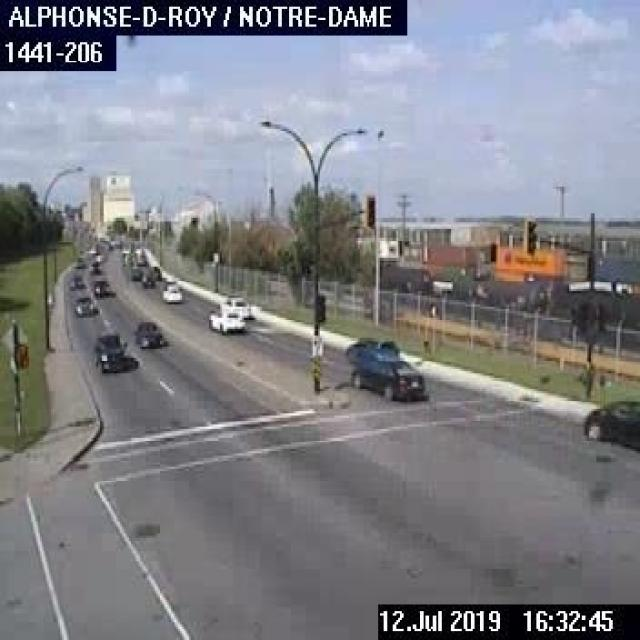vehicle: (580, 394, 638, 456), (348, 356, 424, 400), (91, 328, 131, 374), (342, 334, 398, 362), (205, 303, 247, 333), (132, 314, 162, 350), (222, 292, 252, 320), (158, 276, 184, 302), (73, 290, 94, 316), (90, 273, 110, 297), (138, 266, 156, 288), (66, 271, 85, 290)
